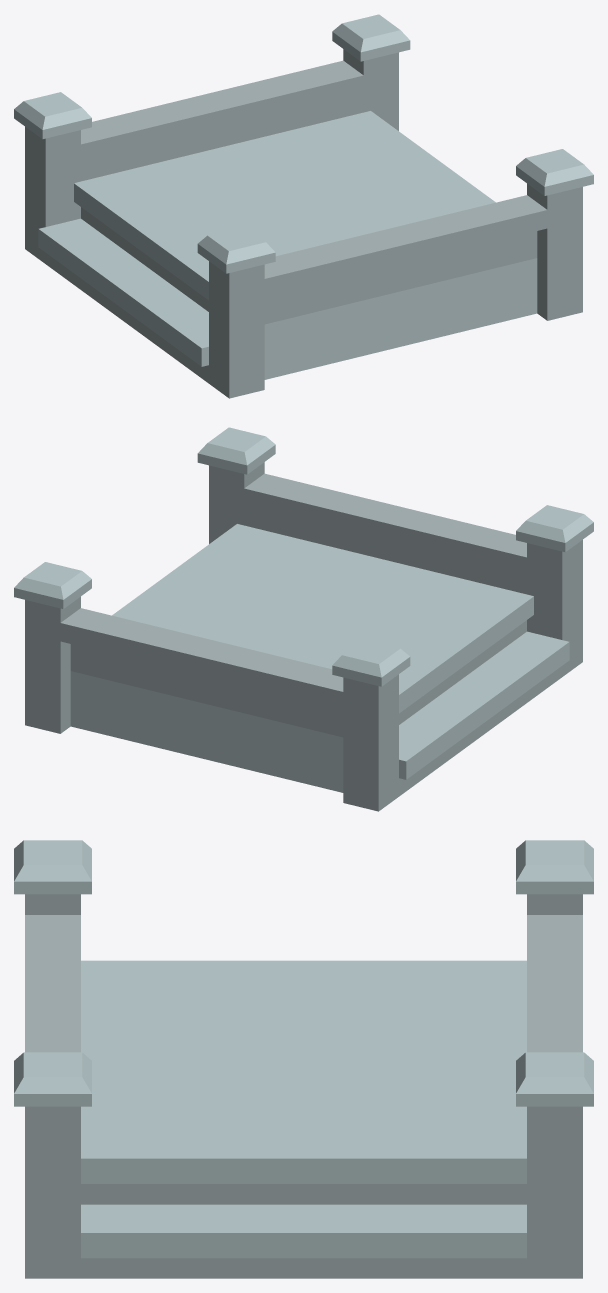
Rendered from bridge_stone.glb.
The picture shows the model from 3 angles, top to bottom: view 1: azimuth 30°, elevation 25°; view 2: azimuth 150°, elevation 25°; view 3: azimuth 270°, elevation 25°; orthographic projection. The views are drawn at different scales.
Parts seen in each view (by area): view 1: bridge_stone; view 2: bridge_stone; view 3: bridge_stone.
Part boxes in pixels (left/top/right/bottom): bridge_stone: left=14, top=14, right=593, bottom=398; bridge_stone: left=14, top=427, right=593, bottom=811; bridge_stone: left=14, top=840, right=593, bottom=1278.
Size of the model in its own units: 1.04 by 0.4 by 1.04.
